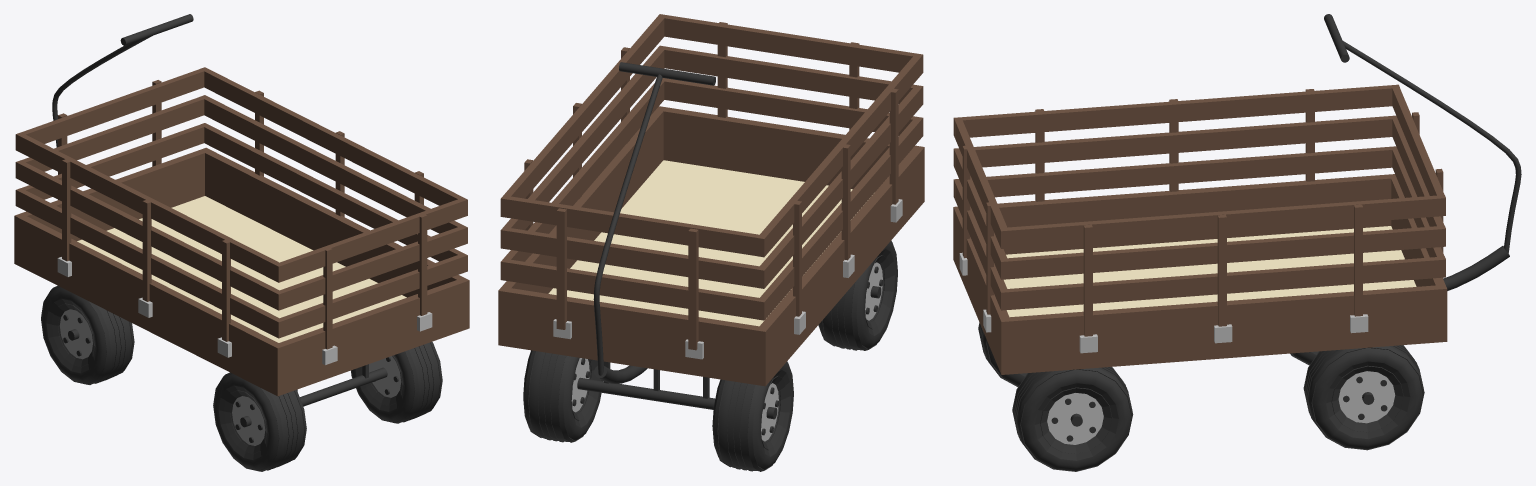
3 renders of one model, left to right at view 1: azimuth 30°, elevation 25°; view 2: azimuth 150°, elevation 25°; view 3: azimuth 270°, elevation 25°, orthographic. The views are drawn at different scales.
Visible parts, largest first — view 1: Box20226, Cylinder042, Cylinder049, Box20235, Box20232, Box20244, Box20231, Box20237, Cylinder046, Box20236, Box20238, Box20240 (+12 smaller); view 2: Box20226, Cylinder049, Cylinder041, Box20240, Box20238, Box20239, Box20243, Box20245, Cylinder042, Box20241, Box20235, Box20232 (+13 smaller); view 3: Box20226, Cylinder041, Cylinder046, Box20232, Box20235, Box20236, Box20237, Box20244, Box20231, Line005, Box20238, Box20240 (+10 smaller).
Boxes of the visible parts, <box> form: Box20226: <box>14,147,469,396</box>; Cylinder042: <box>213,372,306,471</box>; Cylinder049: <box>41,285,134,384</box>; Box20235: <box>200,67,467,217</box>; Box20232: <box>15,133,283,282</box>; Box20244: <box>15,161,283,310</box>; Box20231: <box>15,188,283,338</box>; Box20237: <box>200,95,467,245</box>; Cylinder046: <box>351,342,442,423</box>; Box20236: <box>200,123,467,272</box>; Box20238: <box>17,69,205,143</box>; Box20240: <box>276,198,464,280</box>; Box20226: <box>498,106,924,386</box>; Cylinder049: <box>712,361,793,471</box>; Cylinder041: <box>523,350,603,442</box>; Box20240: <box>662,15,920,72</box>; Box20238: <box>505,196,764,255</box>; Box20239: <box>505,259,765,319</box>; Box20243: <box>506,227,765,287</box>; Box20245: <box>662,46,916,103</box>; Cylinder042: <box>818,240,897,350</box>; Box20241: <box>663,78,919,135</box>; Box20235: <box>500,14,666,217</box>; Box20232: <box>757,53,923,257</box>; Box20226: <box>953,174,1447,374</box>; Cylinder041: <box>1303,345,1424,450</box>; Cylinder046: <box>1012,367,1133,471</box>; Box20232: <box>953,84,1399,138</box>; Box20235: <box>999,195,1445,248</box>; Box20236: <box>999,256,1445,310</box>; Box20237: <box>999,225,1445,279</box>; Box20244: <box>953,115,1397,169</box>; Box20231: <box>953,146,1397,199</box>; Line005: <box>1343,41,1521,253</box>; Box20238: <box>1392,87,1444,196</box>; Box20240: <box>954,119,1007,244</box>.
Size of the model in its own units: 1048 by 1211 by 1697.
